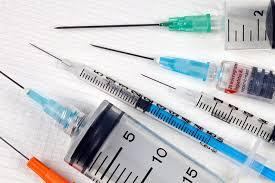Syringe: (0, 71, 224, 182), (58, 58, 248, 163), (92, 45, 274, 102), (142, 74, 274, 142), (0, 137, 70, 182), (56, 14, 221, 31)
